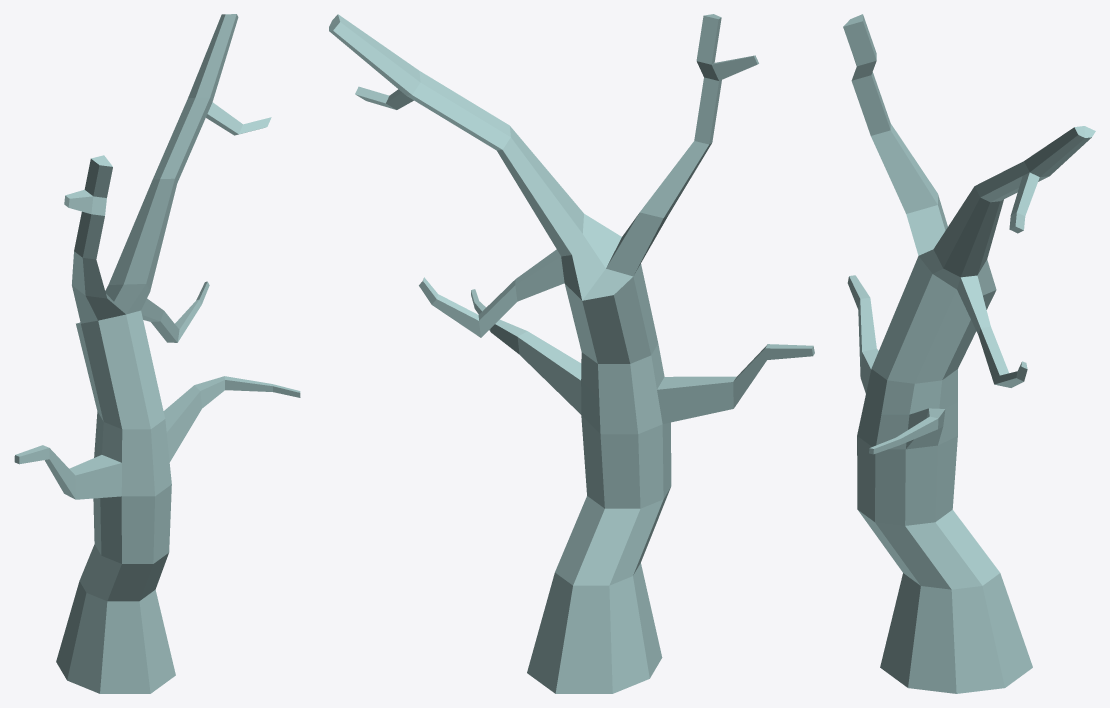
The model's file is 01_06Tree_Purple.fbx.
3 renders of one model, left to right at view 1: azimuth 30°, elevation 25°; view 2: azimuth 150°, elevation 25°; view 3: azimuth 270°, elevation 25°, orthographic. The views are drawn at different scales.
Parts seen in each view (by area): view 1: Cube.014; view 2: Cube.014; view 3: Cube.014.
Boxes of the visible parts, box(x1,y1,x2,y2) form: Cube.014: box(14, 14, 300, 693); Cube.014: box(329, 14, 814, 693); Cube.014: box(843, 14, 1095, 693).
Size of the model in its own units: 110 by 186 by 65.71.
